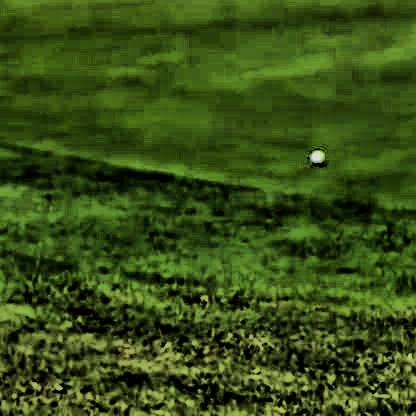golfball: (305, 146, 323, 164)
